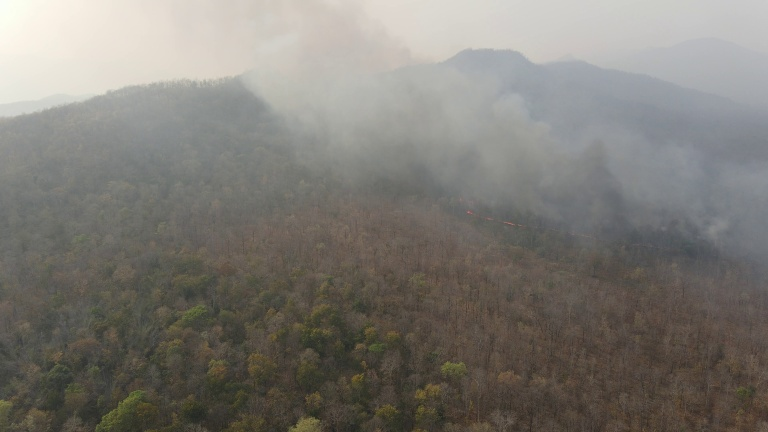fire: (465, 208, 533, 230), (565, 227, 597, 242)
smoke: (195, 1, 570, 215), (557, 114, 768, 253)
